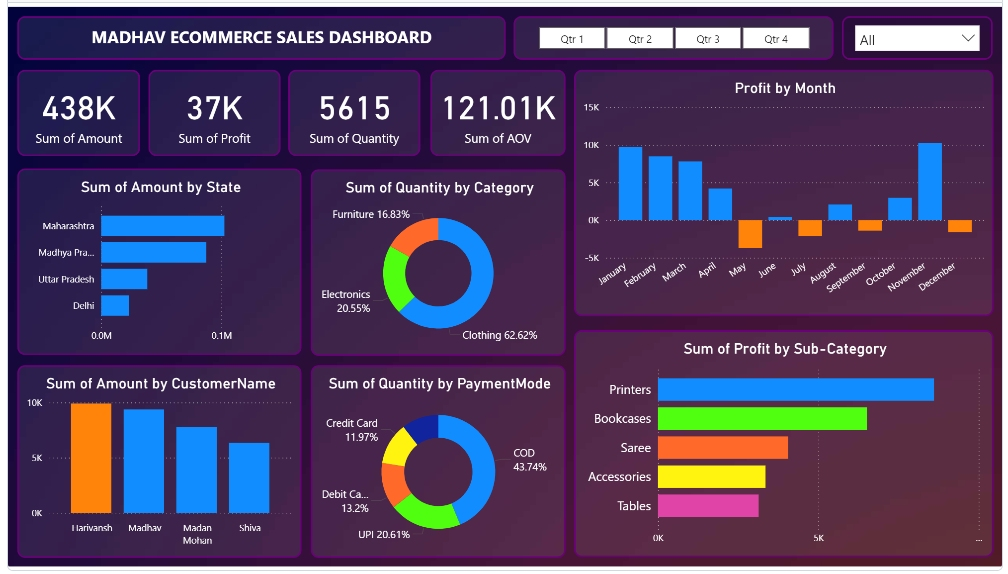

This screenshot's page, from the dashboard's own definition file:
{"tool":"powerbi","page":{"name":"Page 1","canvas":[1280,720],"ordinal":0},"visuals":[{"type":"textbox","box":[11.5,11.5,629.3,56.2],"z":0},{"type":"columnChart","title":"Profit by Month","fields":{"Y":["Details.Profit"],"Category":["Orders.Order Date.Variation.Date Hierarchy.Month"]},"box":[728.6,80.6,540,316.8],"z":1000},{"type":"clusteredBarChart","fields":{"Category":["Details.Sub-Category"],"Y":["Details.Profit"]},"box":[728.6,416.2,540,292.3],"z":2000},{"type":"donutChart","fields":{"Y":["Details.Quantity"],"Category":["Details.Category"]},"box":[390.2,208.8,328.3,240.5],"z":2001},{"type":"donutChart","fields":{"Y":["Details.Quantity"],"Category":["Details.PaymentMode"]},"box":[390.2,460.8,328.3,247.7],"z":2002},{"type":"card","fields":{"Values":["Details.Amount"]},"box":[11.5,80.6,158.4,110.9],"z":2003},{"type":"card","fields":{"Values":["Details.Profit"]},"box":[181.4,80.6,169.9,110.9],"z":2004},{"type":"card","fields":{"Values":["Details.AOV"]},"box":[544.3,80.6,174.2,110.9],"z":2005},{"type":"card","fields":{"Values":["Details.Quantity"]},"box":[361.4,80.6,169.9,110.9],"z":2006},{"type":"clusteredBarChart","title":"Sum of Amount by State","fields":{"Category":["Orders.State"],"Y":["Details.Amount"]},"box":[11.8,208.3,366.2,240.2],"z":2007},{"type":"columnChart","fields":{"Category":["Orders.CustomerName"],"Y":["Details.Amount"]},"box":[12,461,366,248],"z":2008},{"type":"slicer","fields":{"Values":["Orders.Order Date.Variation.Date Hierarchy.Quarter"]},"box":[650.9,11.5,411.8,56.2],"z":2009},{"type":"slicer","fields":{"Values":["Orders.City"]},"box":[1074.2,11.5,194.4,56],"z":2010}]}

Visuals, with their boxes in screenshot pixels (x1, y1, x2, y2), scaled from the page's 1280x720 canvas onto the 1008x574 screenshot:
textbox: <box>9,9,505,54</box>
"Profit by Month" columnChart: <box>574,64,999,317</box>
clusteredBarChart - Details.Sub-Category x Details.Profit: <box>574,332,999,565</box>
donutChart - Details.Quantity x Details.Category: <box>307,166,566,358</box>
donutChart - Details.Quantity x Details.PaymentMode: <box>307,367,566,565</box>
card - Details.Amount: <box>9,64,134,153</box>
card - Details.Profit: <box>143,64,277,153</box>
card - Details.AOV: <box>429,64,566,153</box>
card - Details.Quantity: <box>285,64,418,153</box>
"Sum of Amount by State" clusteredBarChart: <box>9,166,298,358</box>
columnChart - Orders.CustomerName x Details.Amount: <box>9,368,298,565</box>
slicer - Orders.Order Date.Variation.Date Hierarchy.Quarter: <box>513,9,837,54</box>
slicer - Orders.City: <box>846,9,999,54</box>
